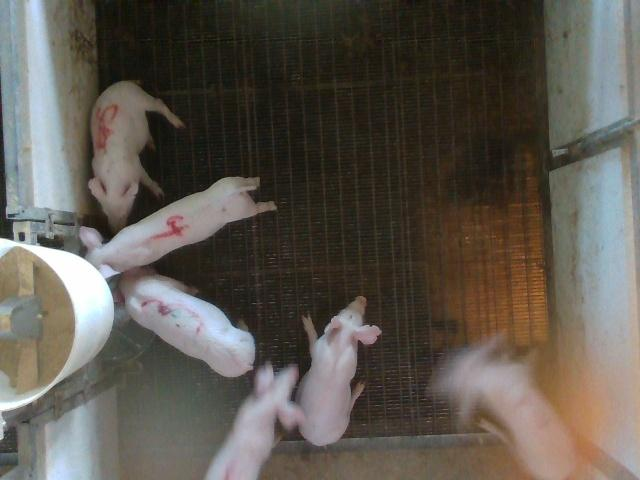pig-3: (119, 266, 255, 377)
pig-4: (80, 178, 276, 278)
pig-5: (89, 81, 184, 232)
